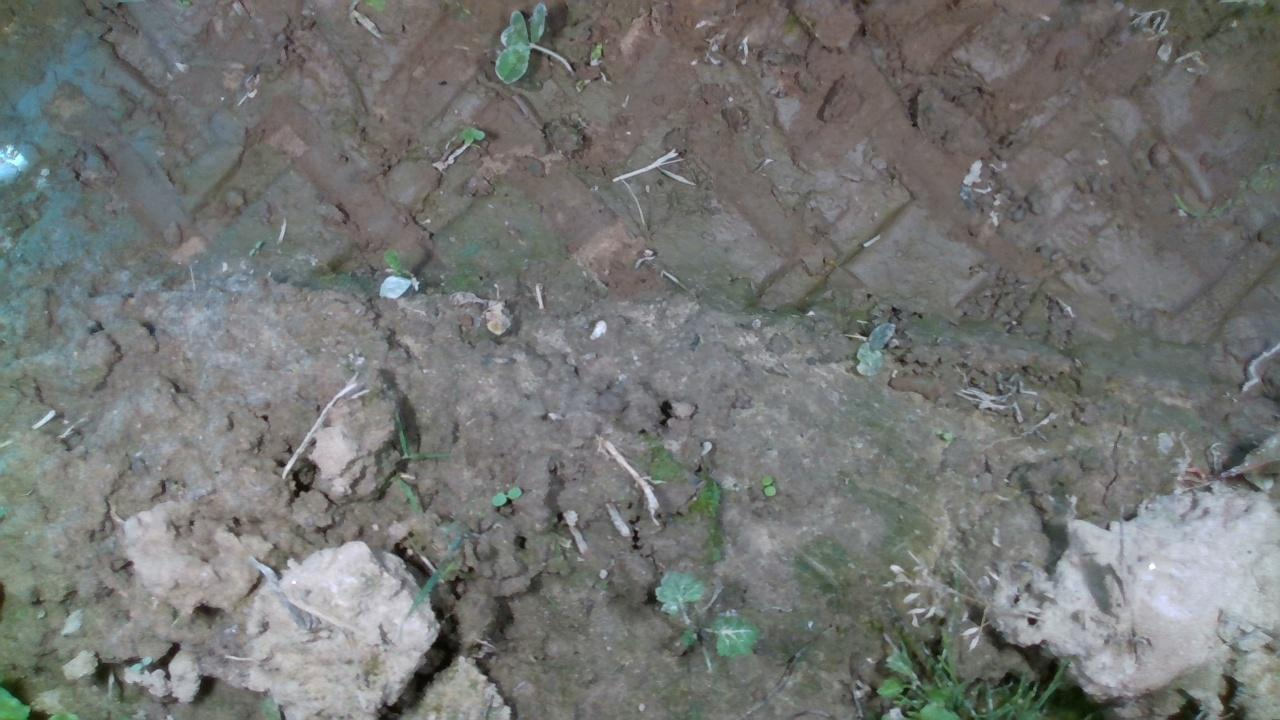weed: (489, 483, 522, 507), (759, 473, 776, 497)
